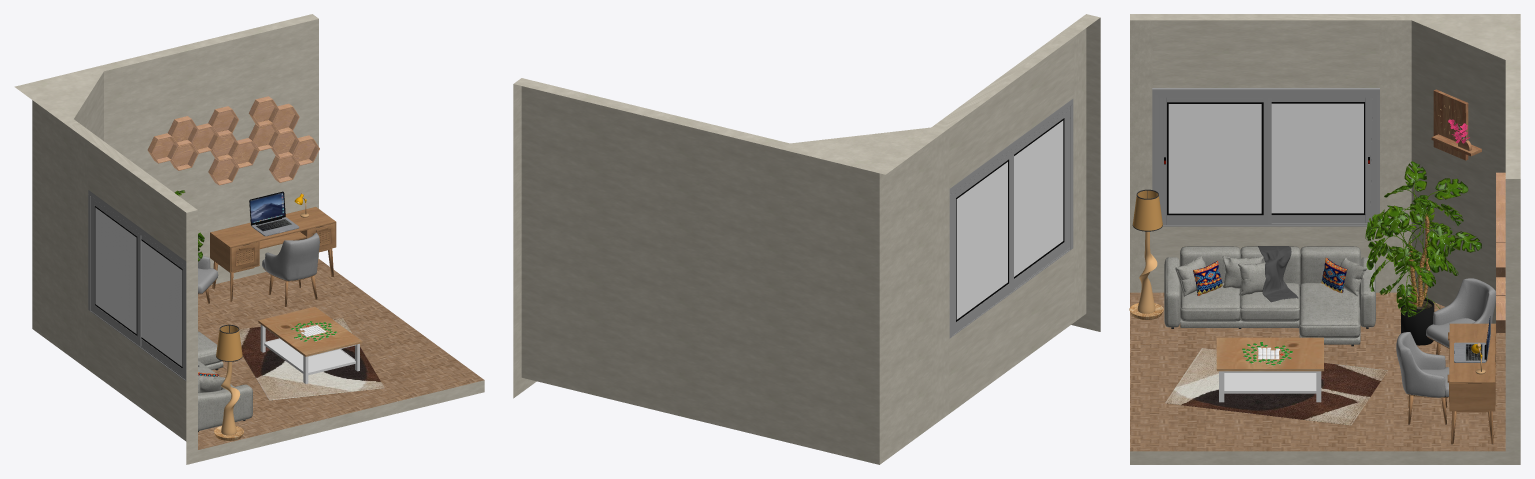
The model's file is comp_day_room.glb.
3 views of the same model, side by side, from view 1: azimuth 30°, elevation 25°; view 2: azimuth 150°, elevation 25°; view 3: azimuth 270°, elevation 25° (orthographic). The views are drawn at different scales.
Visible parts, largest first — view 1: RoomB, Tapis 30, Sliding window; view 2: RoomB, Sliding window; view 3: RoomB, Tapis 30, Sliding window.
Boxes of the visible parts, left/top/right/bottom form: RoomB: left=14, top=14, right=484, bottom=464; Tapis 30: left=147, top=96, right=384, bottom=440; Sliding window: left=88, top=190, right=186, bottom=381; RoomB: left=513, top=14, right=1100, bottom=464; Sliding window: left=949, top=99, right=1073, bottom=338; RoomB: left=1130, top=14, right=1520, bottom=464; Tapis 30: left=1129, top=89, right=1505, bottom=444; Sliding window: left=1152, top=88, right=1379, bottom=226.
Bounding box in the file's own units: 5.2 × 4.2 × 5.21.
Materials: 50 (25 with a texture image).
